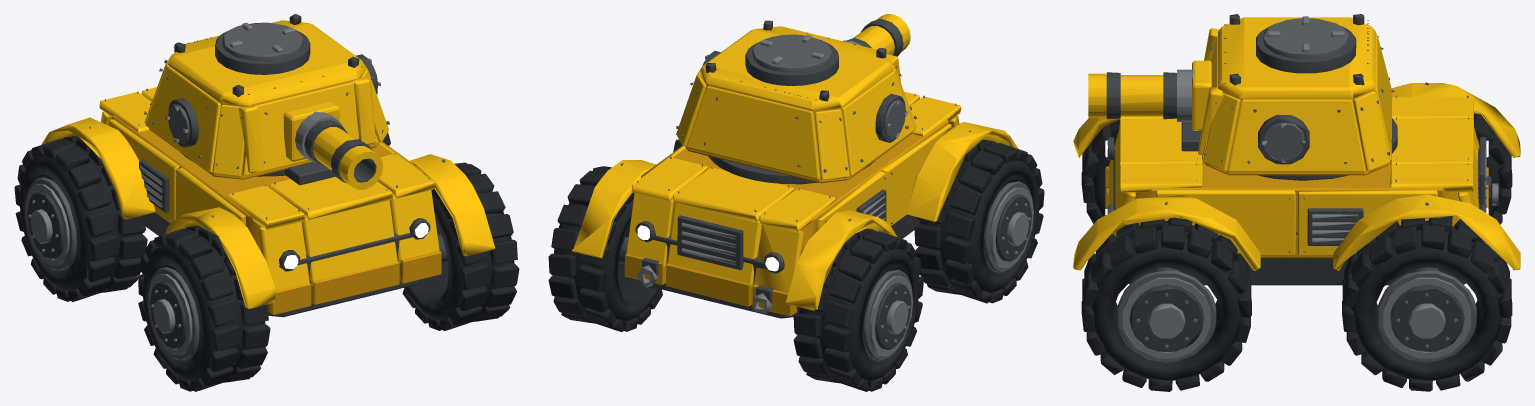
File: tank.glb
The picture shows the model from 3 angles, left to right: view 1: azimuth 30°, elevation 25°; view 2: azimuth 150°, elevation 25°; view 3: azimuth 270°, elevation 25°; orthographic projection. The views are drawn at different scales.
Visible parts, largest first — view 1: Hull, Turret, WheelLeft1, WheelLeft2, WheelRight1, Barrel, Hatch; view 2: Hull, Turret, WheelLeft2, WheelLeft1, WheelRight2, Hatch, Barrel; view 3: Hull, Turret, WheelRight1, WheelRight2, Barrel, Hatch, WheelLeft1, WheelLeft2.
Part boxes in pixels (bbox=[...]): Hull: bbox=[41, 87, 495, 317]; Turret: bbox=[144, 14, 389, 185]; WheelLeft1: bbox=[138, 225, 270, 391]; WheelLeft2: bbox=[14, 135, 147, 301]; WheelRight1: bbox=[402, 162, 519, 330]; Barrel: bbox=[283, 101, 383, 189]; Hatch: bbox=[215, 22, 310, 74]; Hull: bbox=[571, 91, 1018, 318]; Turret: bbox=[676, 20, 917, 184]; WheelLeft2: bbox=[793, 228, 923, 391]; WheelLeft1: bbox=[914, 139, 1044, 303]; WheelRight2: bbox=[548, 166, 662, 331]; Hatch: bbox=[745, 34, 838, 85]; Barrel: bbox=[842, 14, 910, 56]; Hull: bbox=[1073, 82, 1520, 285]; Turret: bbox=[1181, 14, 1397, 180]; WheelRight1: bbox=[1081, 217, 1251, 391]; WheelRight2: bbox=[1342, 216, 1512, 391]; Barrel: bbox=[1088, 60, 1211, 130]; Hatch: bbox=[1256, 16, 1356, 73]; WheelLeft1: bbox=[1081, 120, 1119, 223]; WheelLeft2: bbox=[1474, 113, 1512, 224].
Size of the model in its own units: 1 by 0.7625 by 1.1.
